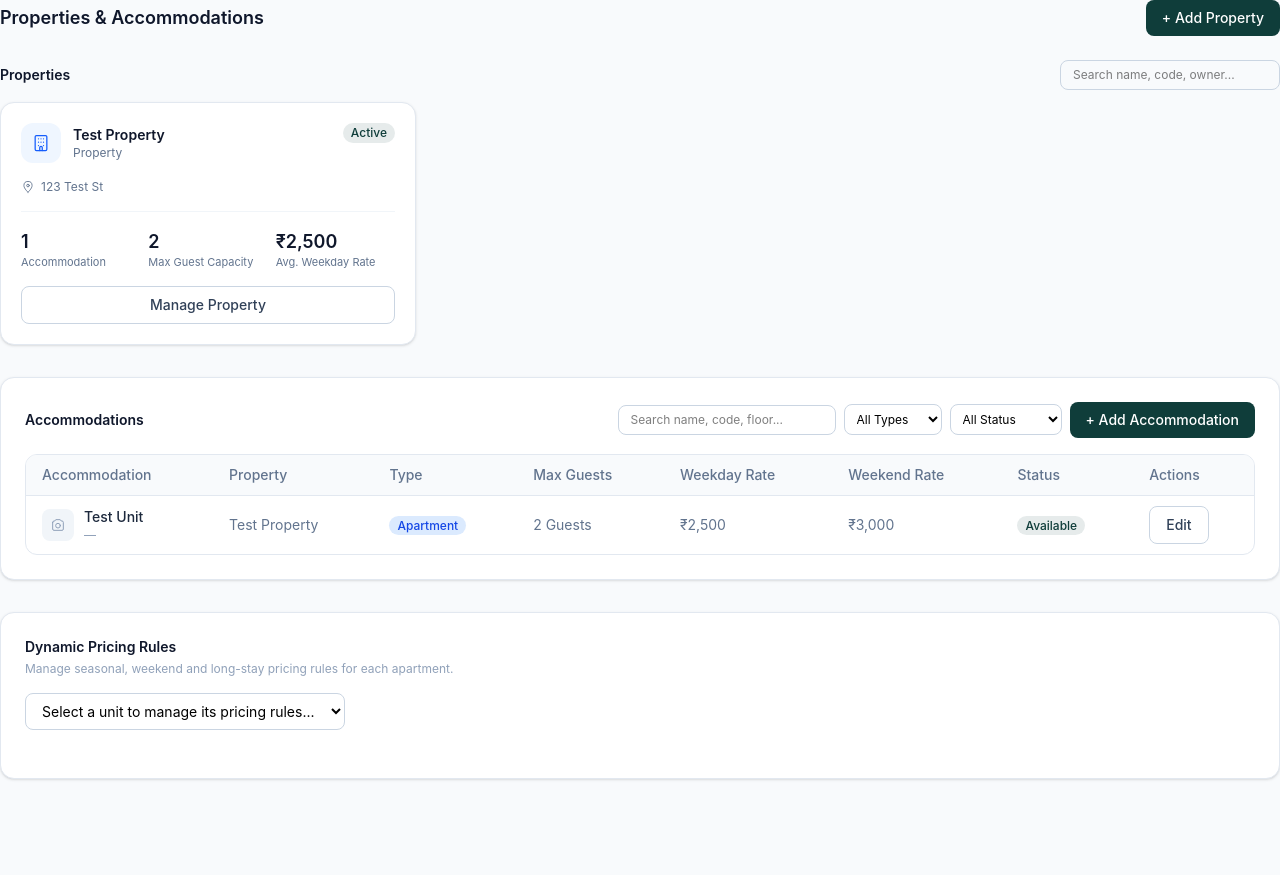
Test: PropertiesPage — Manager pricing UI (RBAC Phase B) › Admin retains the full pricing/unit-edit capability (Save Changes, not the narrow Save Pricing)
Expected: the text "Test Unit" is shown, [84,507,143,527]
Click the button "Edit".
click(1179, 525)  # box [1149,506,1209,544]
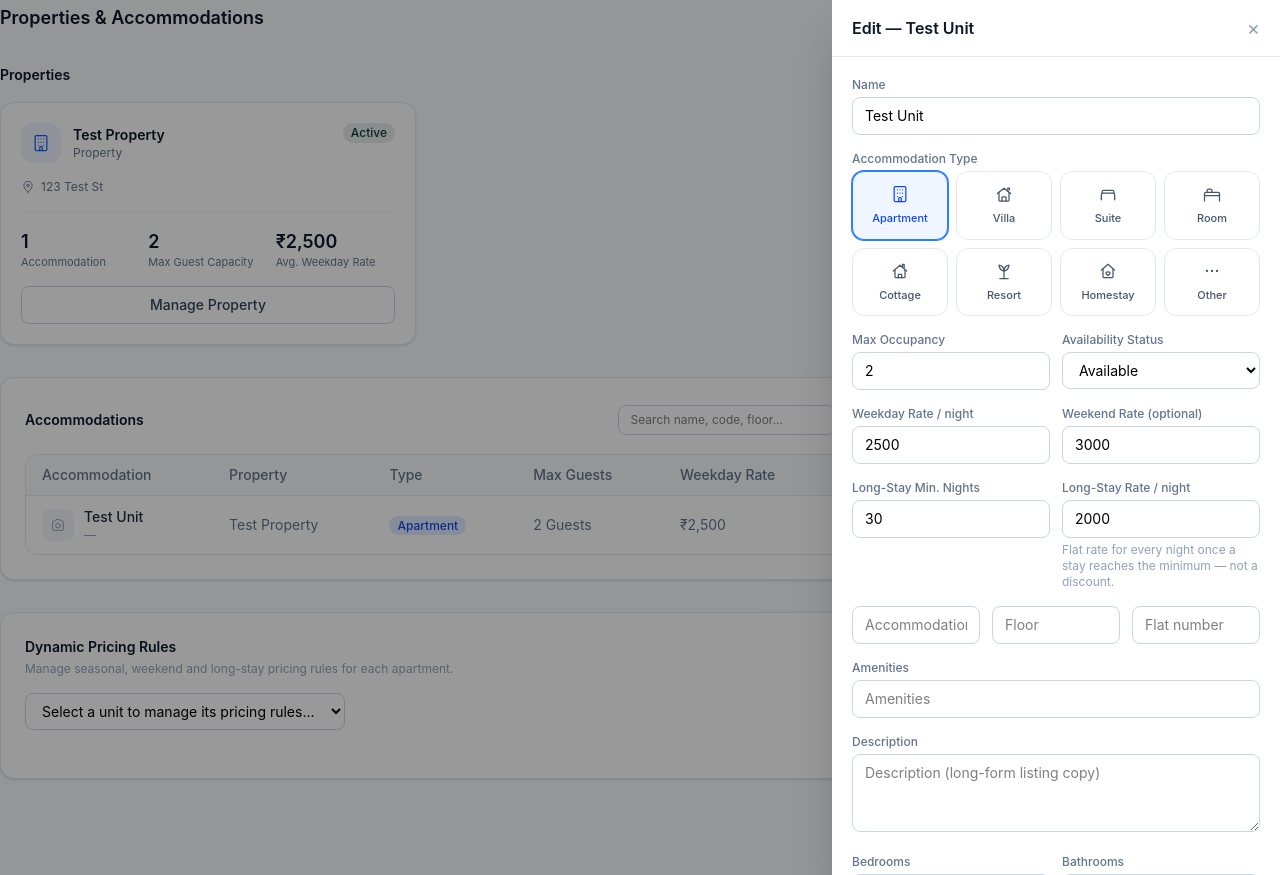
Result: the number field with placeholder "Weekday rate" below "Weekday Rate / night" is shown at [852,426,1050,464]
